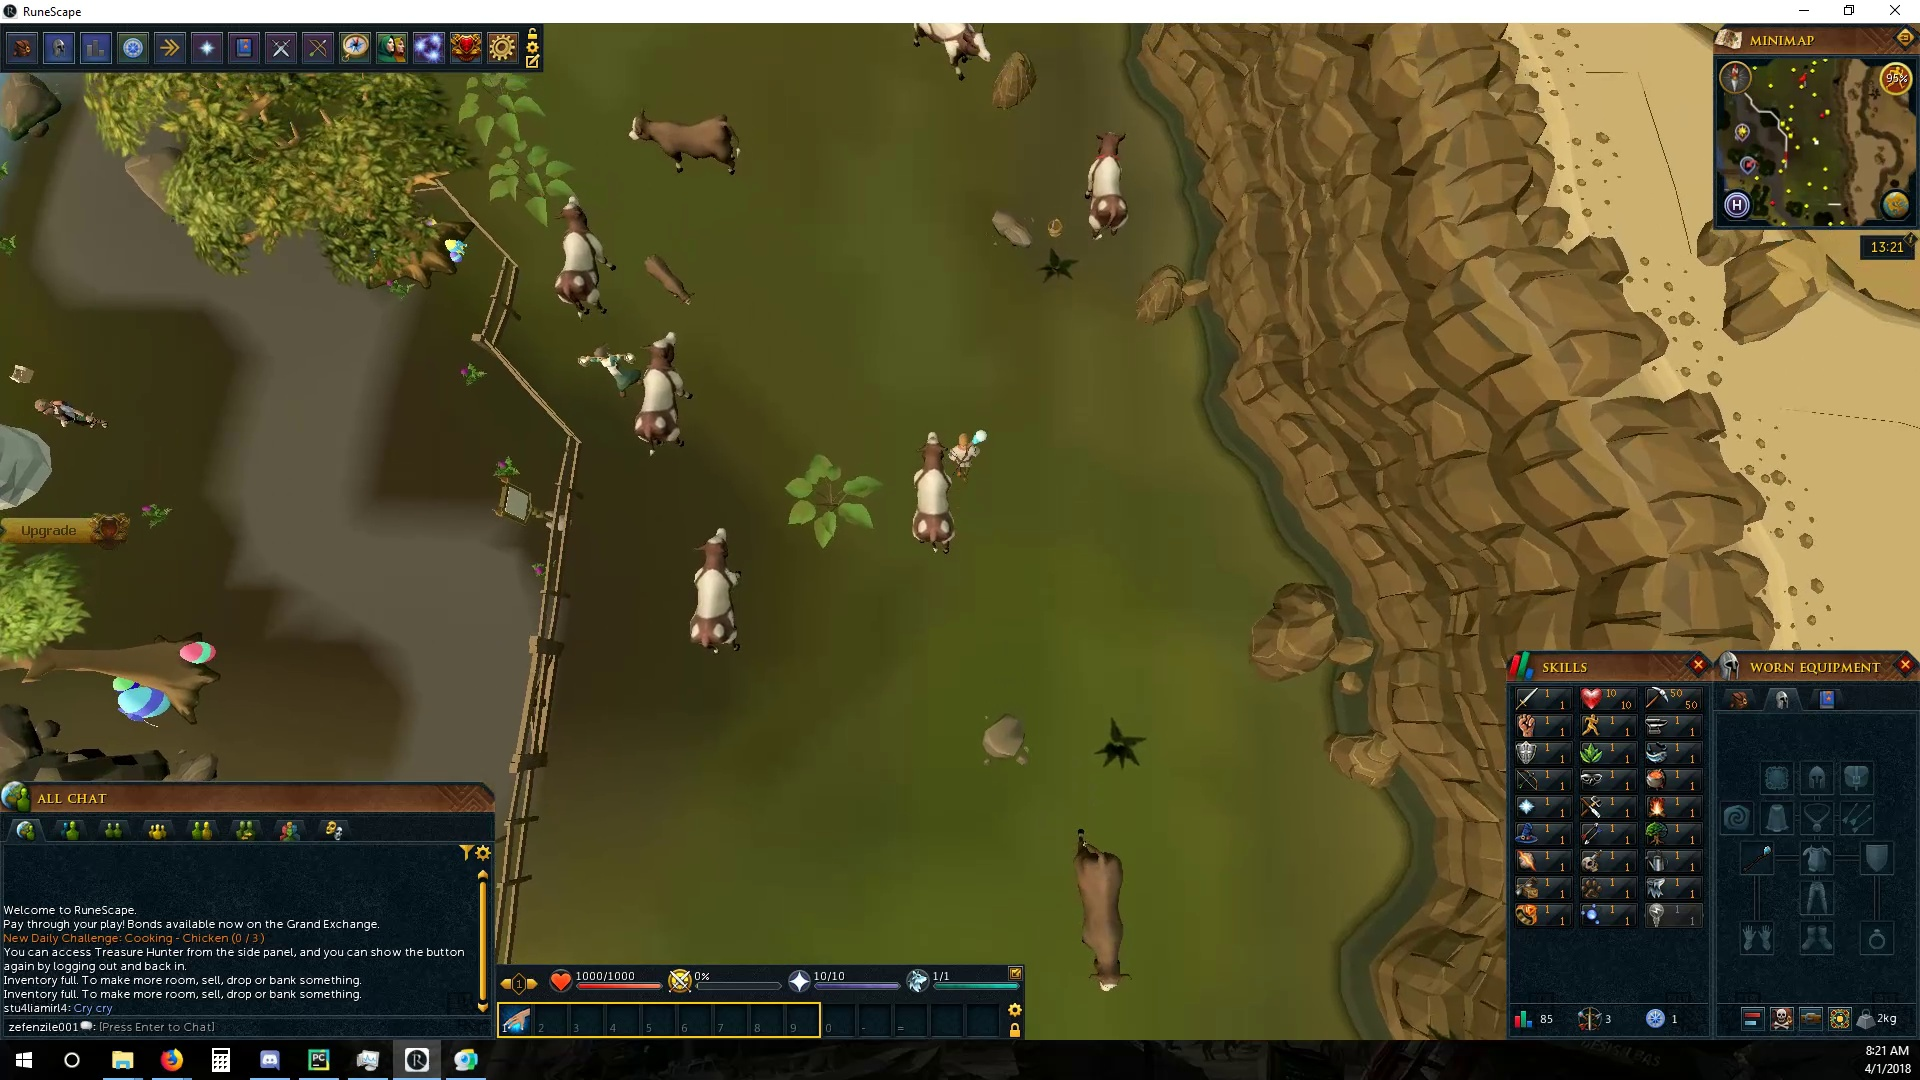calf: (640, 251, 702, 310)
cow: (1069, 825, 1134, 996), (545, 191, 618, 320), (622, 107, 745, 178), (686, 524, 748, 655), (632, 332, 695, 459), (1080, 123, 1131, 245), (911, 427, 957, 558), (909, 21, 997, 84)
